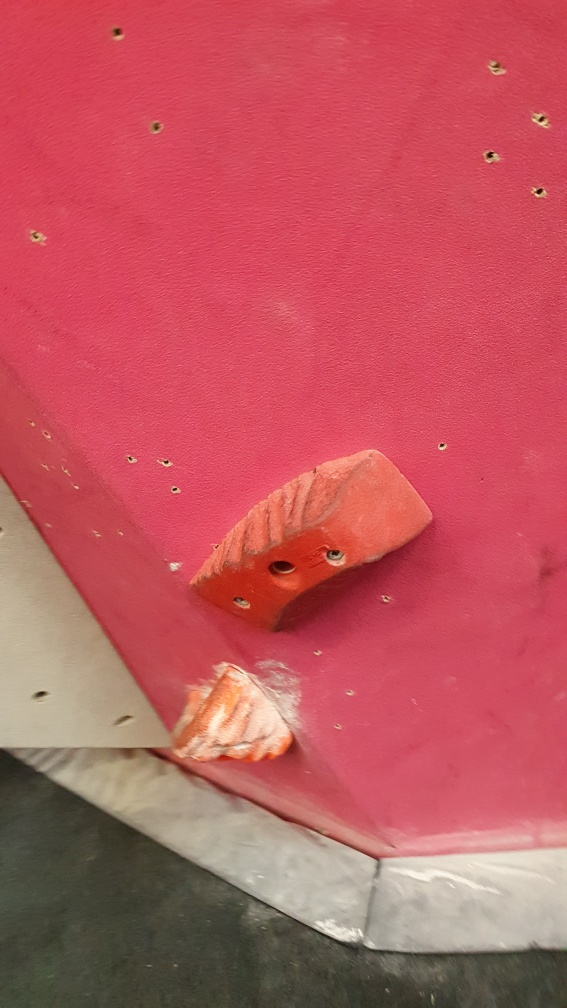Crimp: (187, 447, 442, 638)
Jug: (165, 656, 308, 768)
